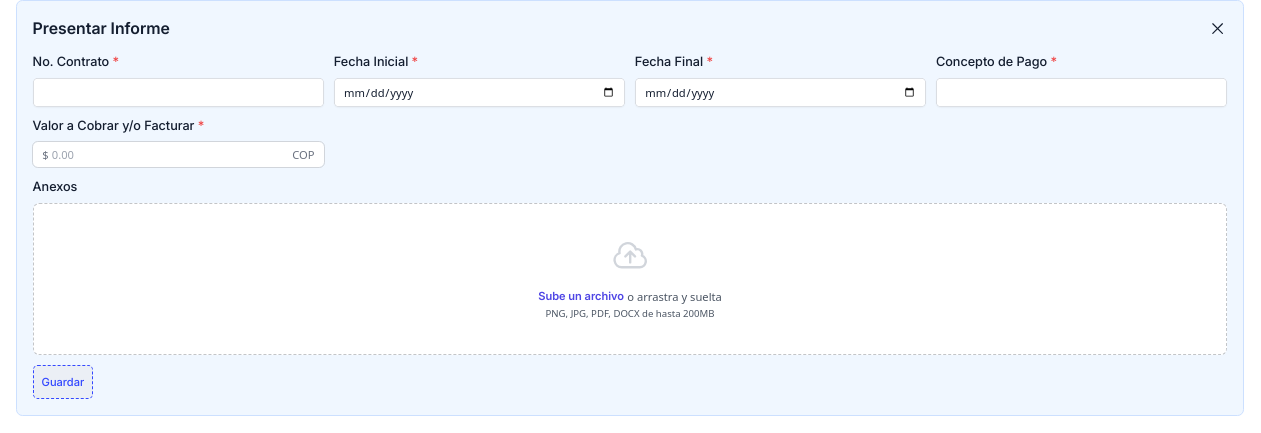
Scenario: FacturationForm.vue › save button becomes enabled when all required fields are filled
Note: quality: allow-fragile-selector (stable DOM id defined in component template)
In the field with id "document-number": (178, 92) [33,78,324,107], type "CT-001"
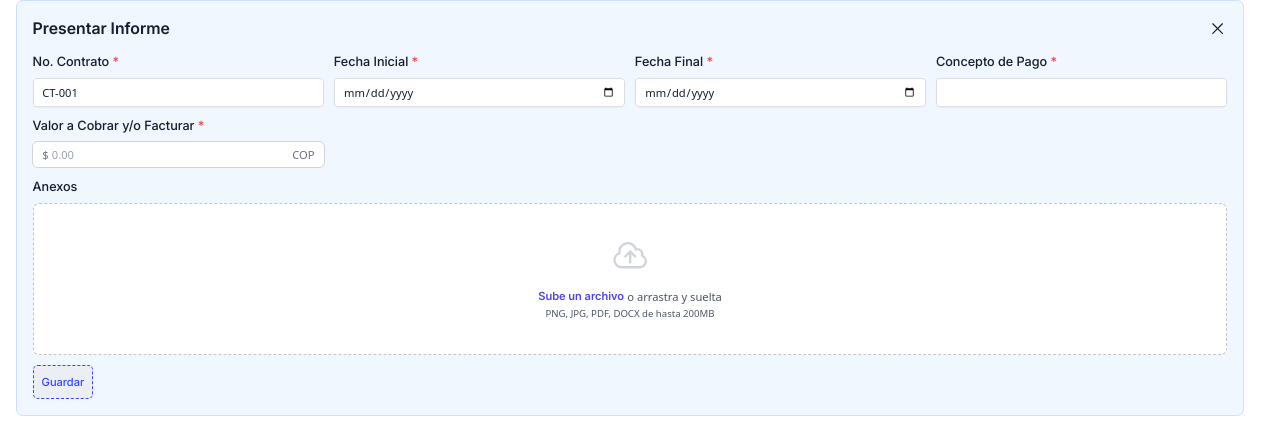
In the date field with id "initial-report-period": (479, 92) [334,78,625,107], type "2025-01-01"
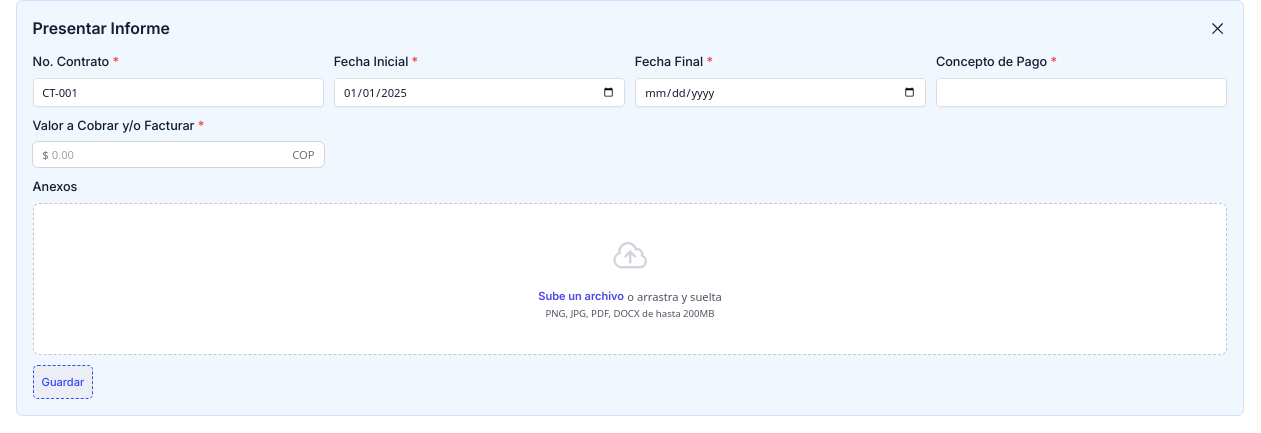
In the date field with id "final-report-period": (781, 92) [635,78,926,107], type "2025-01-31"
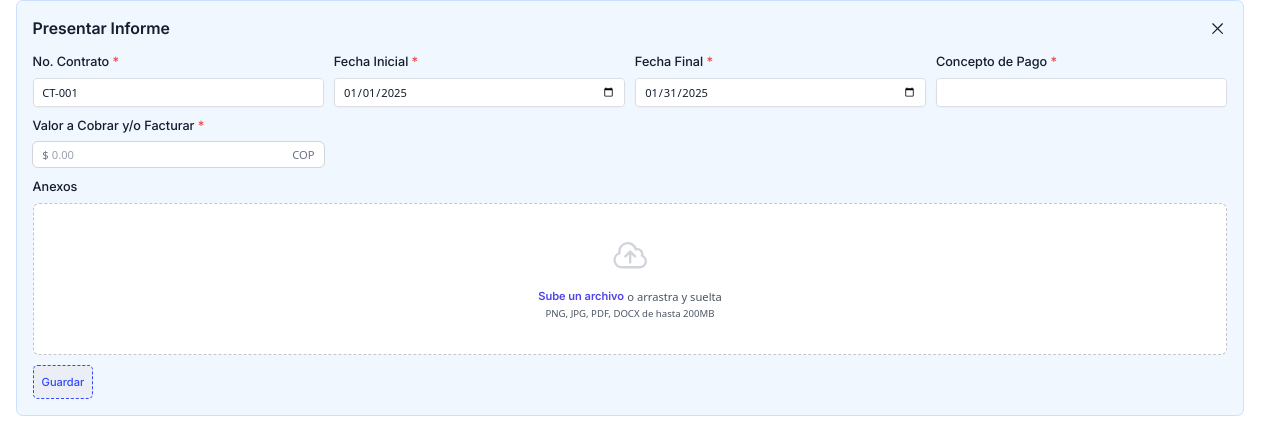
In the field labelled "Concepto de Pago *": (1082, 92) [936,78,1227,107], type "Servicios legales"
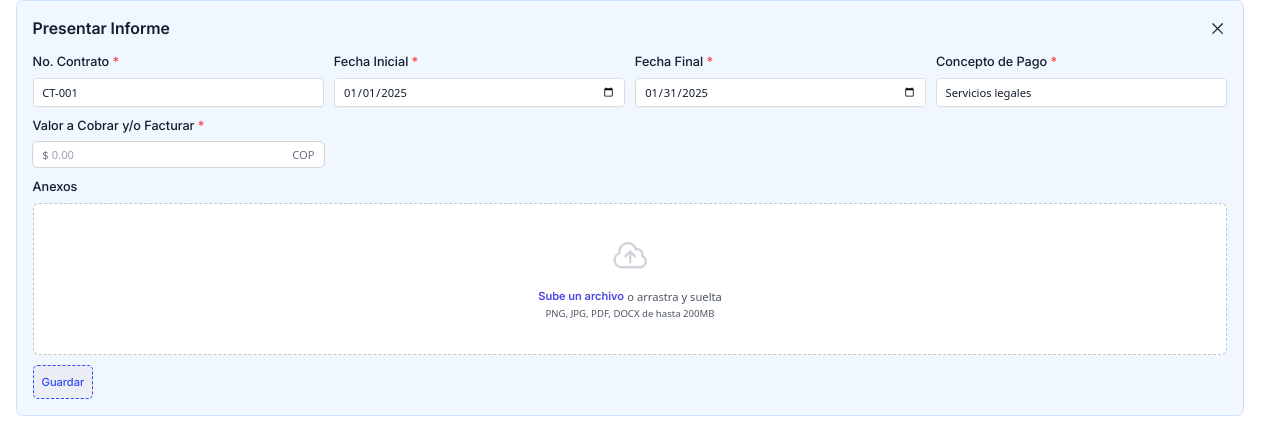
In the field with placeholder "0.00": (170, 155) [49,142,292,167], type "5000000"
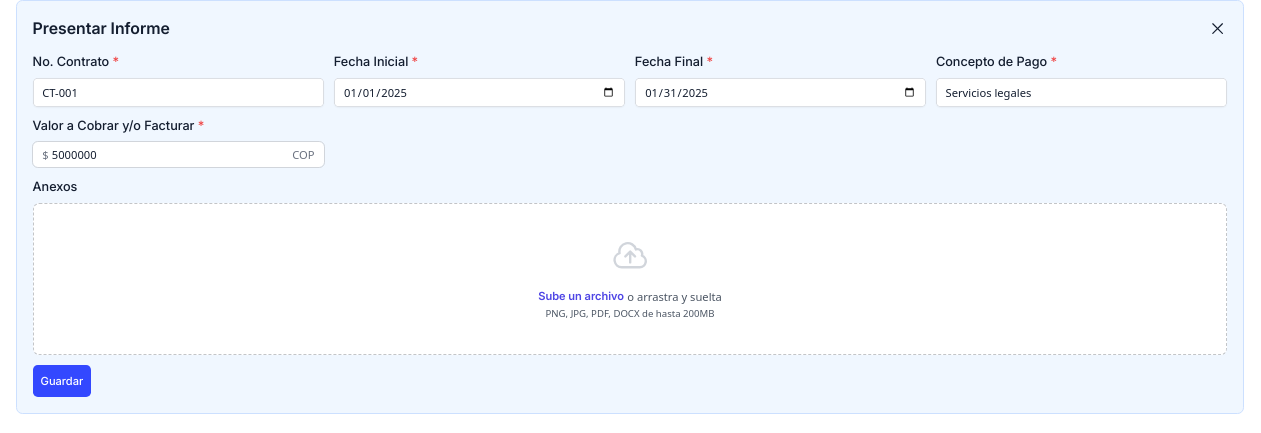
Expected: the submit button is enabled, [33,364,91,396]
